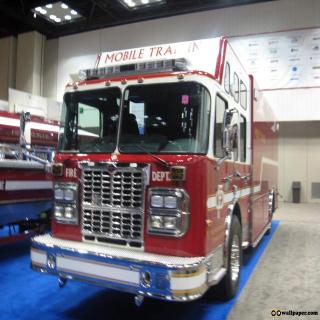Fire_truck: (29, 35, 280, 307), (0, 107, 100, 245)
